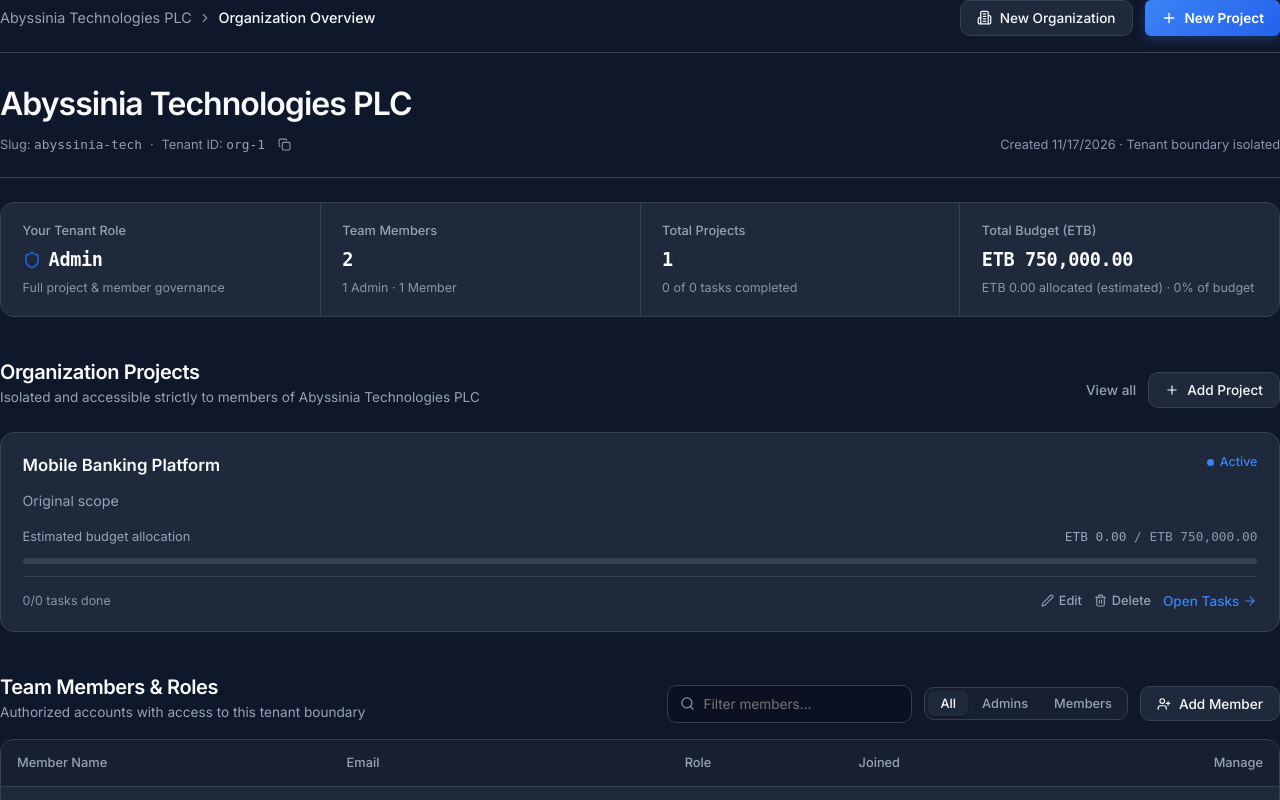
Scenario: Edit project description › prefills the current description and saves the edited text with the existing update call
Later steps or results of the test are not shown.
Expected: the heading "Organization Projects" is shown, [0,360,200,384]
Expected: the heading "Mobile Banking Platform" is shown, [23,453,220,478]
Click the button with aria-label "Edit project Mobile Banking Platform". click: {"x": 1061, "y": 601}
box: [1041,594,1082,608]
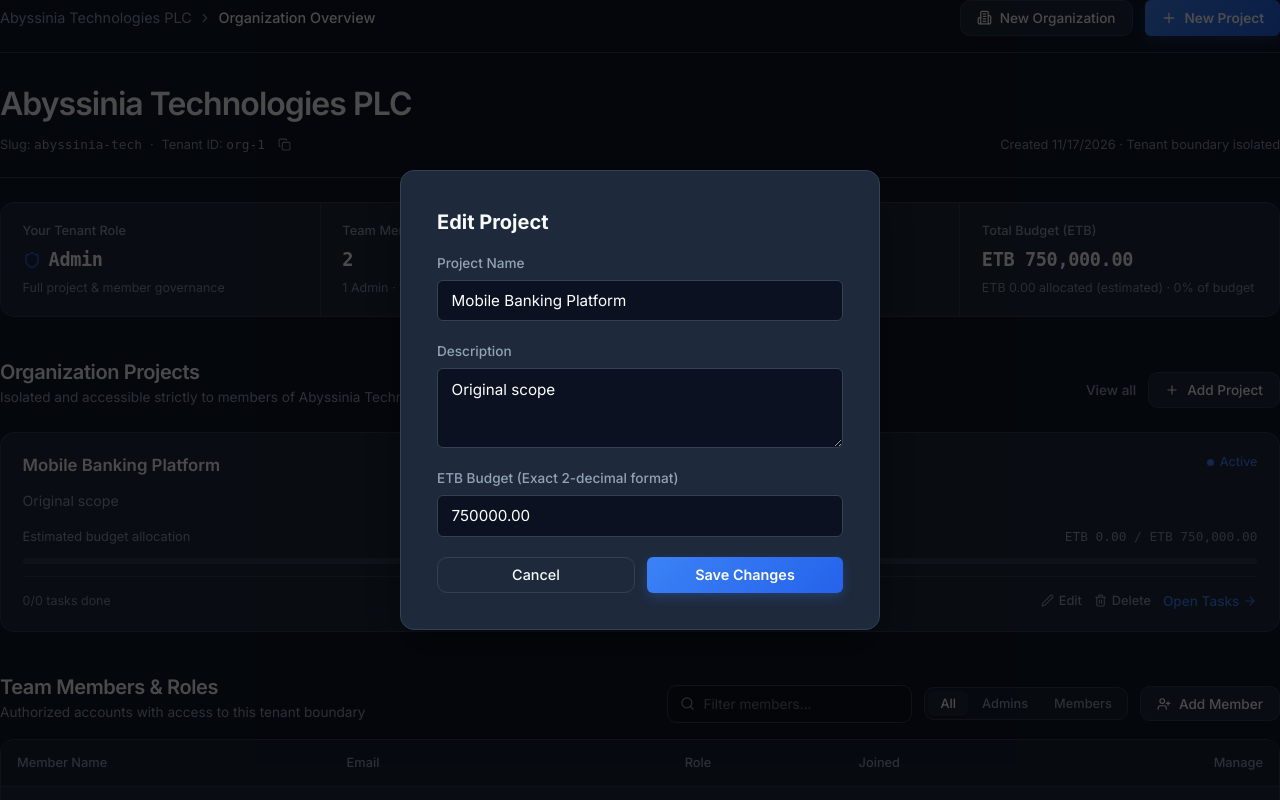
Now the text box labelled "Description" holds "Original scope", box [437,368,843,448]
